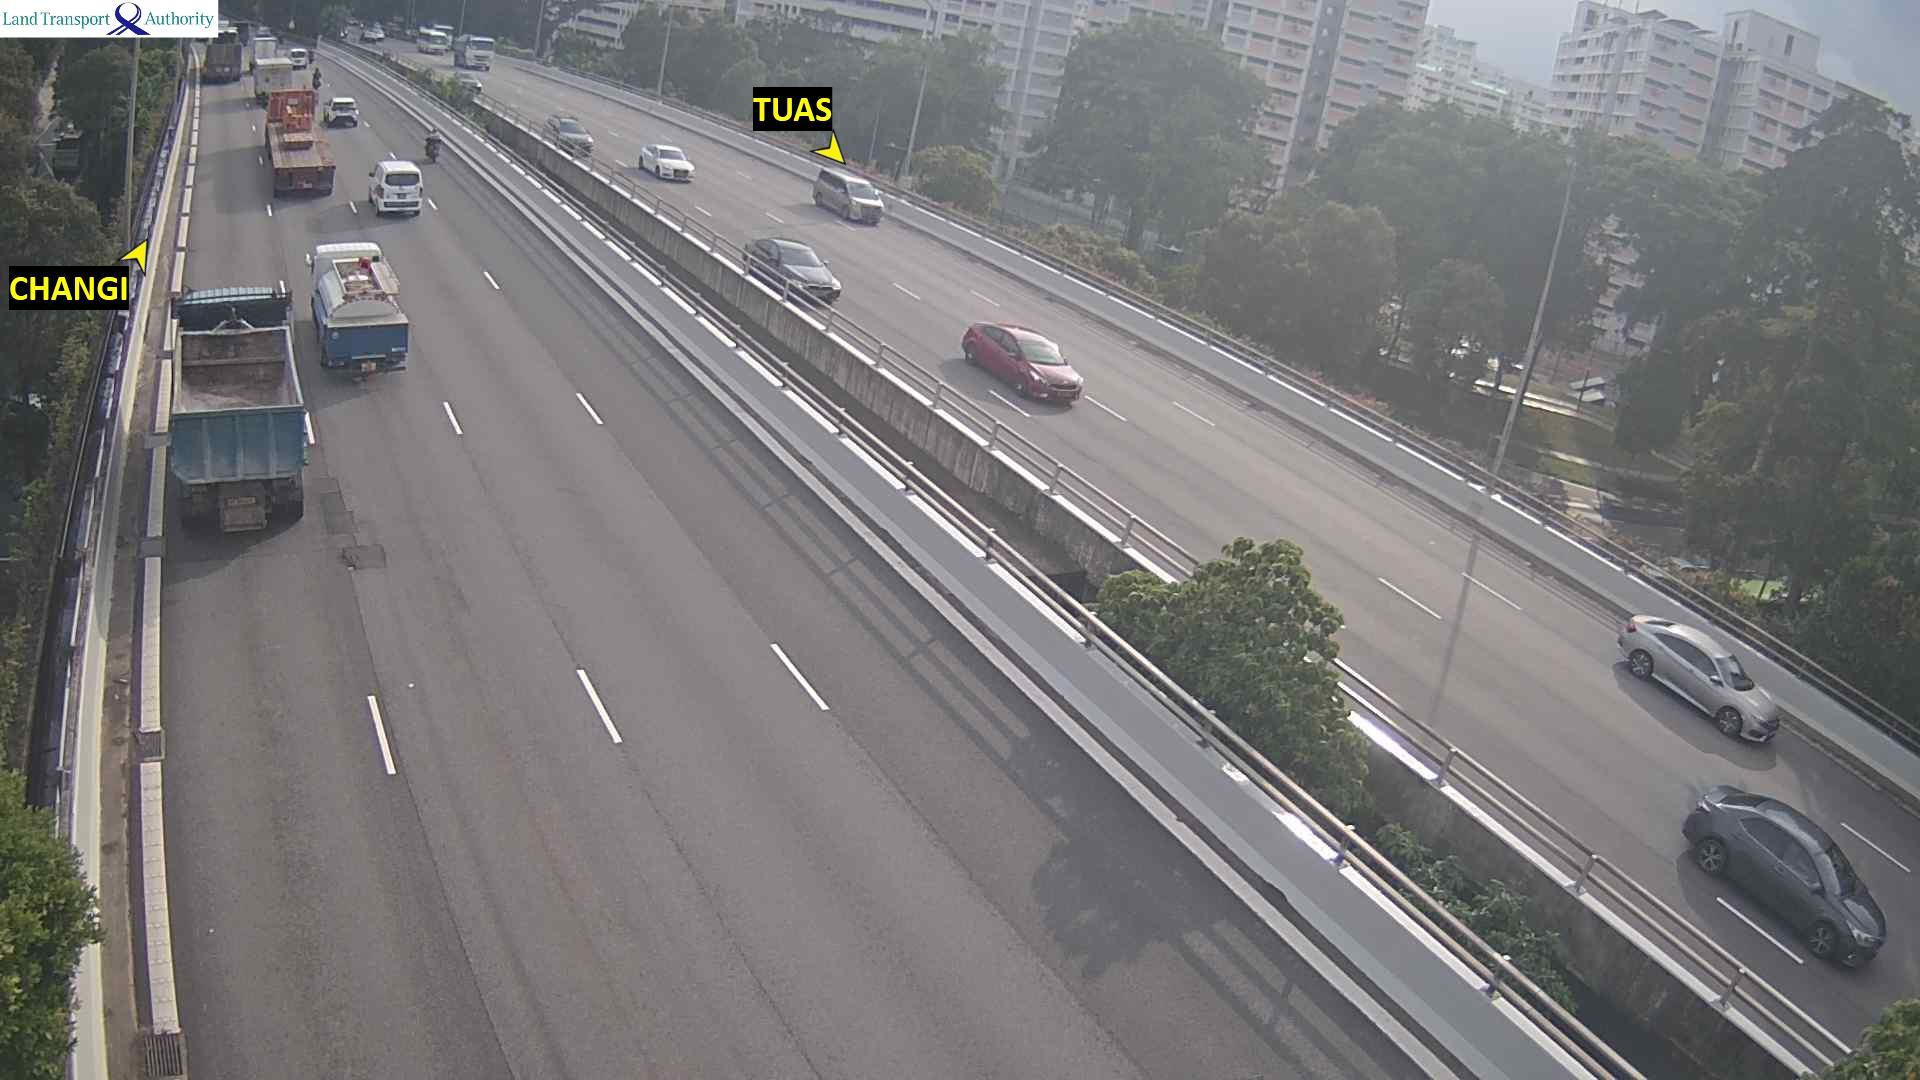cars: (1680, 785, 1887, 968), (1615, 613, 1780, 742), (960, 320, 1084, 404), (741, 236, 841, 305), (812, 166, 884, 225), (638, 142, 695, 181), (546, 113, 593, 154), (322, 95, 359, 127), (454, 73, 483, 94), (287, 46, 311, 69), (360, 21, 384, 42)
motorcycle: (423, 128, 440, 164), (310, 65, 327, 94), (307, 47, 318, 69)
trucks: (165, 281, 315, 534), (305, 240, 409, 378), (261, 87, 336, 195), (367, 153, 423, 218), (252, 55, 301, 109), (200, 32, 243, 82), (454, 33, 495, 70), (251, 36, 281, 78), (421, 21, 455, 51), (414, 28, 448, 55), (231, 20, 253, 47)
